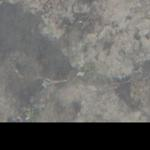dead: (9, 1, 146, 118)
